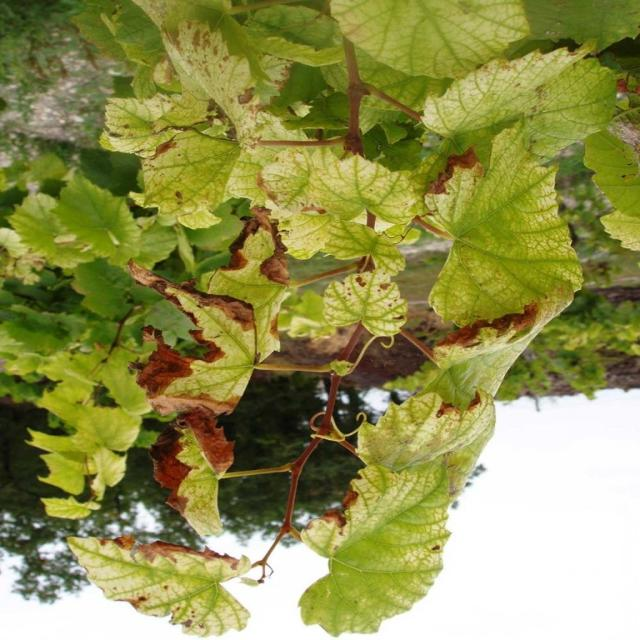Chlorosis: (32, 25, 613, 617)
